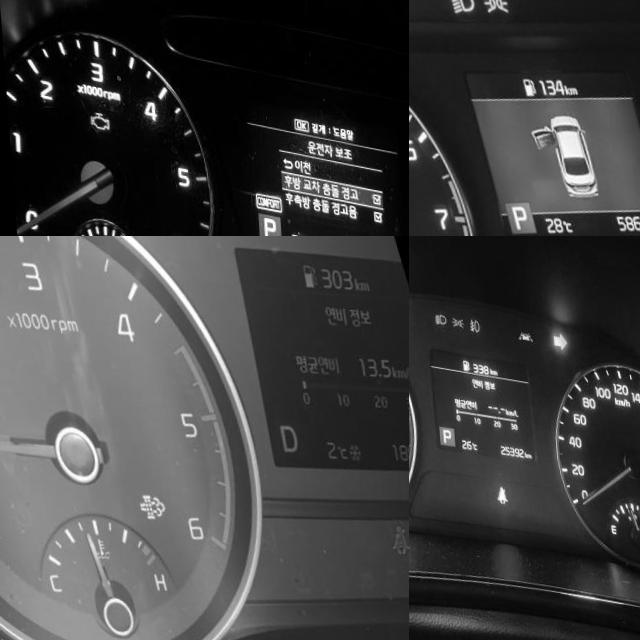FrontFogLight: (464, 305, 476, 321)
LaneCenteringOff: (514, 316, 528, 328)
Low beam: (442, 0, 473, 9), (430, 301, 442, 315)
SideLamp: (447, 304, 459, 317)
